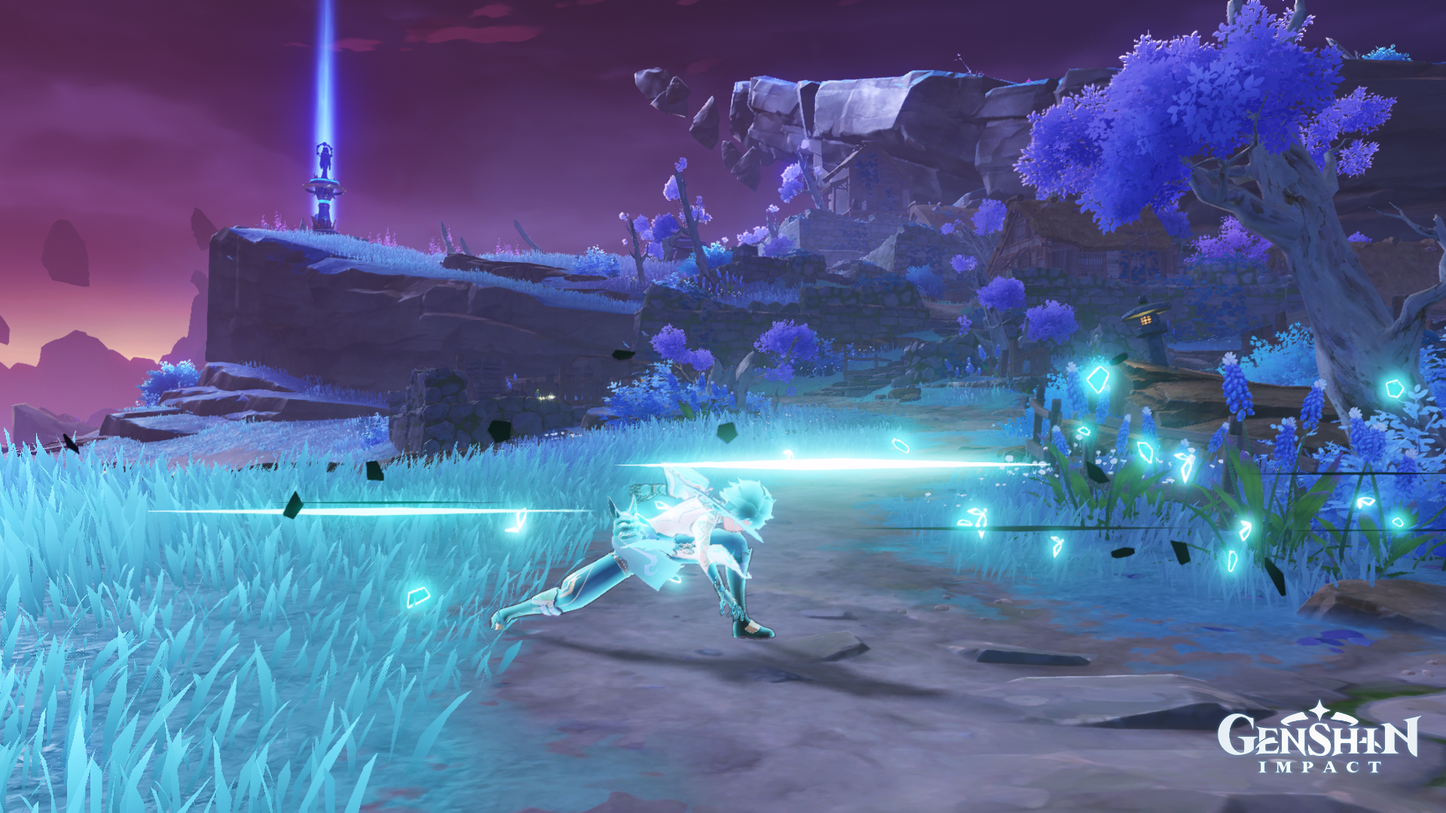Human: (483, 478, 781, 638)
Tree: (1140, 49, 1419, 424)
Waypoint: (308, 143, 341, 233)
